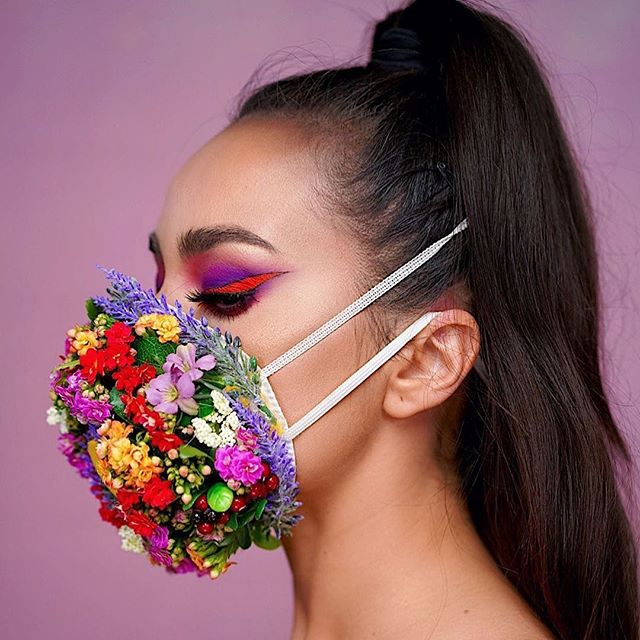homemade: (40, 265, 351, 590)
